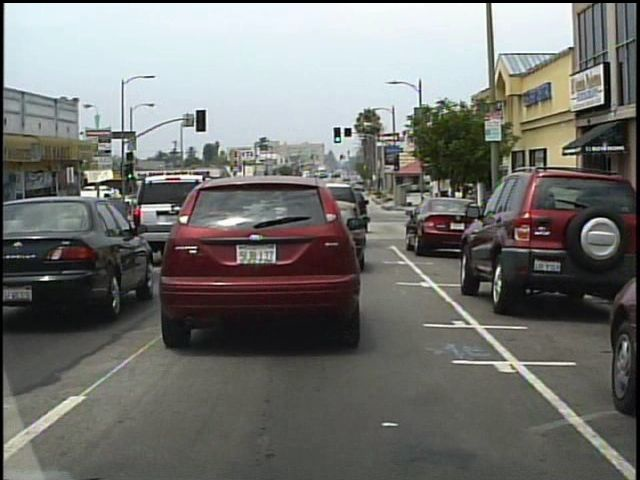person: (450, 191, 463, 230), (464, 188, 478, 220), (441, 193, 452, 231)
